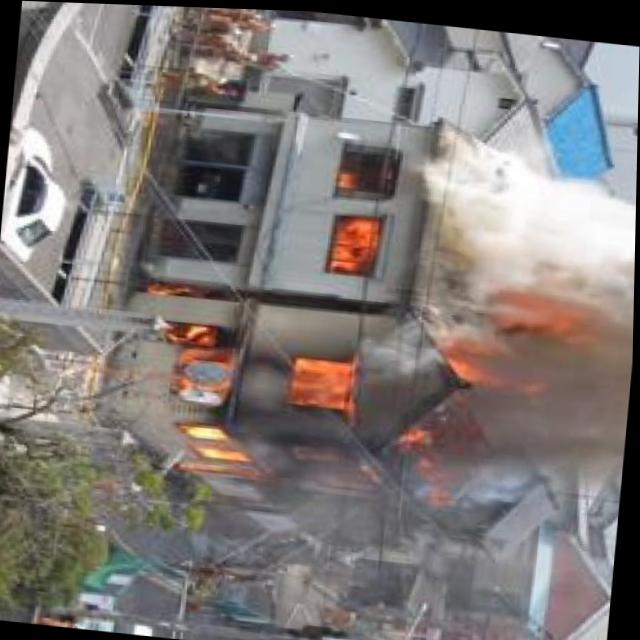Fire: (105, 276, 466, 509), (462, 277, 568, 406), (323, 158, 383, 273)
